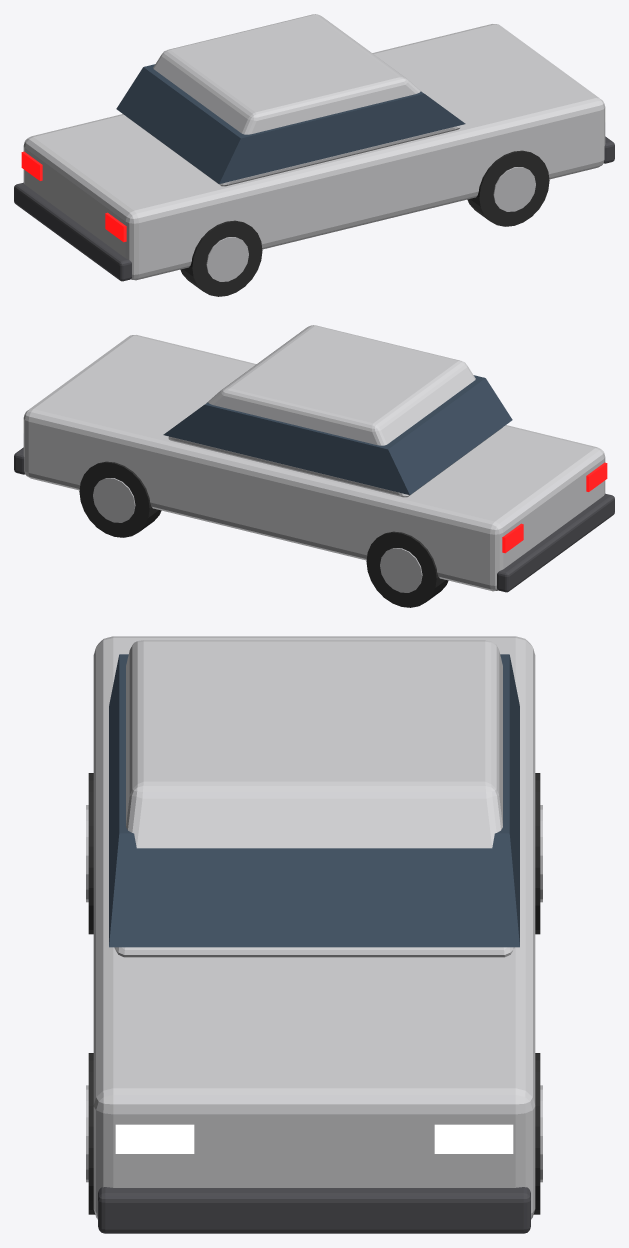
The model's file is car.glb.
The picture shows the model from 3 angles, top to bottom: view 1: azimuth 30°, elevation 25°; view 2: azimuth 150°, elevation 25°; view 3: azimuth 270°, elevation 25°; orthographic projection. The views are drawn at different scales.
Parts seen in each view (by area): view 1: Car_Body, Car_Cabin, Car_Glass, Car_BumperR, Car_Wheel_FR, Car_Wheel_RR, Car_Wheel_RR_Rim, Car_Wheel_FR_Rim, Car_TailL, Car_TailR; view 2: Car_Body, Car_Cabin, Car_Glass, Car_BumperR, Car_Wheel_FL, Car_Wheel_RL, Car_Wheel_RL_Rim, Car_Wheel_FL_Rim, Car_TailL, Car_TailR; view 3: Car_Body, Car_Cabin, Car_Glass, Car_BumperF, Car_HeadL, Car_HeadR, Car_Wheel_FL, Car_Wheel_FR, Car_Wheel_RL, Car_Wheel_RR.
Part boxes in pixels (x1=…): Car_Body: x1=23, y1=24, x2=605, y2=280; Car_Cabin: x1=126, y1=14, x2=460, y2=186; Car_Glass: x1=116, y1=64, x2=465, y2=183; Car_BumperR: x1=14, y1=182, x2=131, y2=281; Car_Wheel_FR: x1=467, y1=150, x2=549, y2=226; Car_Wheel_RR: x1=180, y1=220, x2=262, y2=296; Car_Wheel_RR_Rim: x1=206, y1=237, x2=248, y2=281; Car_Wheel_FR_Rim: x1=493, y1=167, x2=535, y2=211; Car_TailL: x1=21, y1=151, x2=42, y2=180; Car_TailR: x1=105, y1=212, x2=126, y2=242; Car_Body: x1=23, y1=335, x2=605, y2=591; Car_Cabin: x1=168, y1=325, x2=502, y2=497; Car_Glass: x1=163, y1=375, x2=512, y2=494; Car_BumperR: x1=497, y1=493, x2=614, y2=592; Car_Wheel_FL: x1=79, y1=461, x2=161, y2=537; Car_Wheel_RL: x1=366, y1=531, x2=448, y2=607; Car_Wheel_RL_Rim: x1=380, y1=548, x2=422, y2=592; Car_Wheel_FL_Rim: x1=93, y1=478, x2=135, y2=522; Car_TailL: x1=502, y1=523, x2=523, y2=553; Car_TailR: x1=586, y1=462, x2=607, y2=491; Car_Body: x1=93, y1=636, x2=535, y2=1219; Car_Cabin: x1=114, y1=640, x2=514, y2=957; Car_Glass: x1=109, y1=654, x2=519, y2=947; Car_BumperF: x1=98, y1=1187, x2=530, y2=1233; Car_HeadL: x1=434, y1=1124, x2=513, y2=1153; Car_HeadR: x1=115, y1=1124, x2=194, y2=1153; Car_Wheel_FL: x1=533, y1=1053, x2=540, y2=1214; Car_Wheel_FR: x1=88, y1=1053, x2=95, y2=1214; Car_Wheel_RL: x1=535, y1=773, x2=540, y2=934; Car_Wheel_RR: x1=88, y1=773, x2=93, y2=934.
Size of the model in its own units: 4.66 by 1.47 by 1.86.
